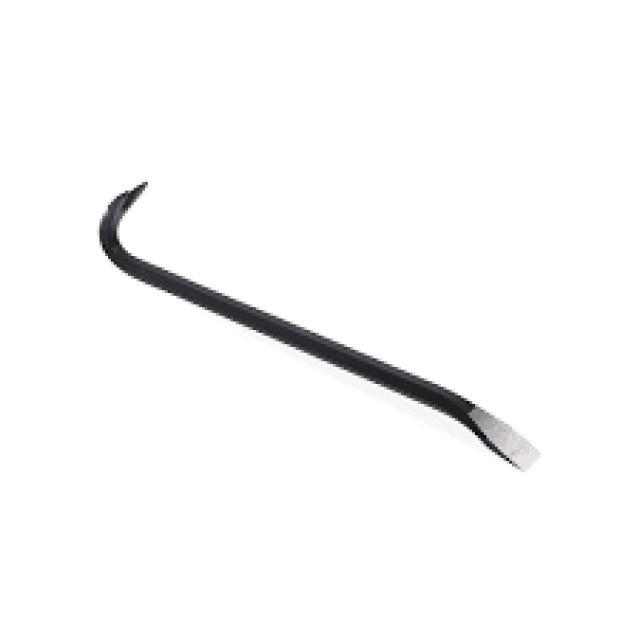Linggis: (88, 173, 554, 478)
